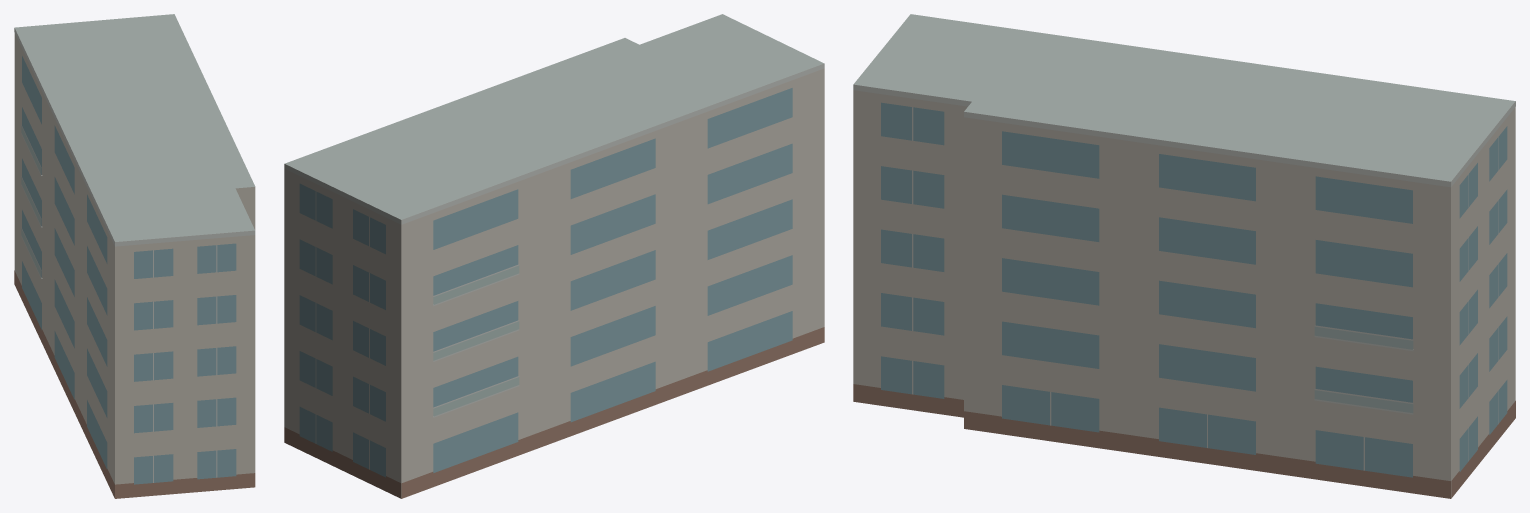
File: survey-upis-33027152.glb
3 views of the same model, side by side, from view 1: azimuth 30°, elevation 25°; view 2: azimuth 150°, elevation 25°; view 3: azimuth 270°, elevation 25° (orthographic). The views are drawn at different scales.
Parts seen in each view (by area): view 1: survey-upis-33027152.tmp; view 2: survey-upis-33027152.tmp; view 3: survey-upis-33027152.tmp.
Part boxes in pixels (box(x1,y1,x2,y2)): survey-upis-33027152.tmp: box(14, 14, 255, 498); survey-upis-33027152.tmp: box(284, 14, 824, 498); survey-upis-33027152.tmp: box(853, 14, 1515, 498).
Size of the model in its own units: 15.84 by 13.95 by 26.42.
